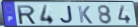4: (39, 4, 55, 26), (117, 4, 132, 25)
8: (97, 5, 113, 26)
J: (59, 5, 74, 24)
K: (77, 5, 94, 25)
R: (16, 4, 38, 25)
